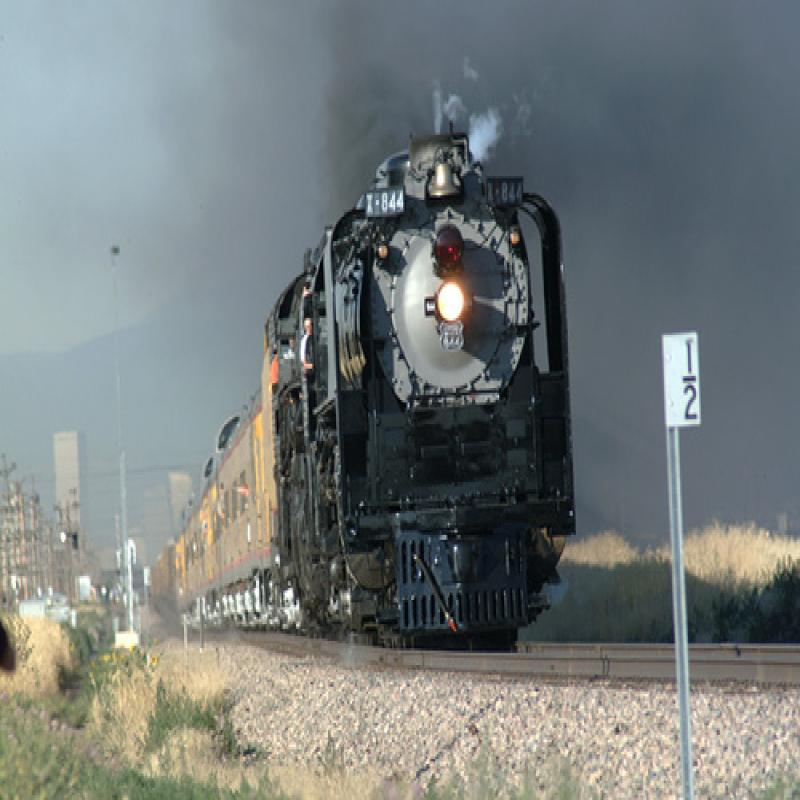train: (150, 117, 580, 652)
